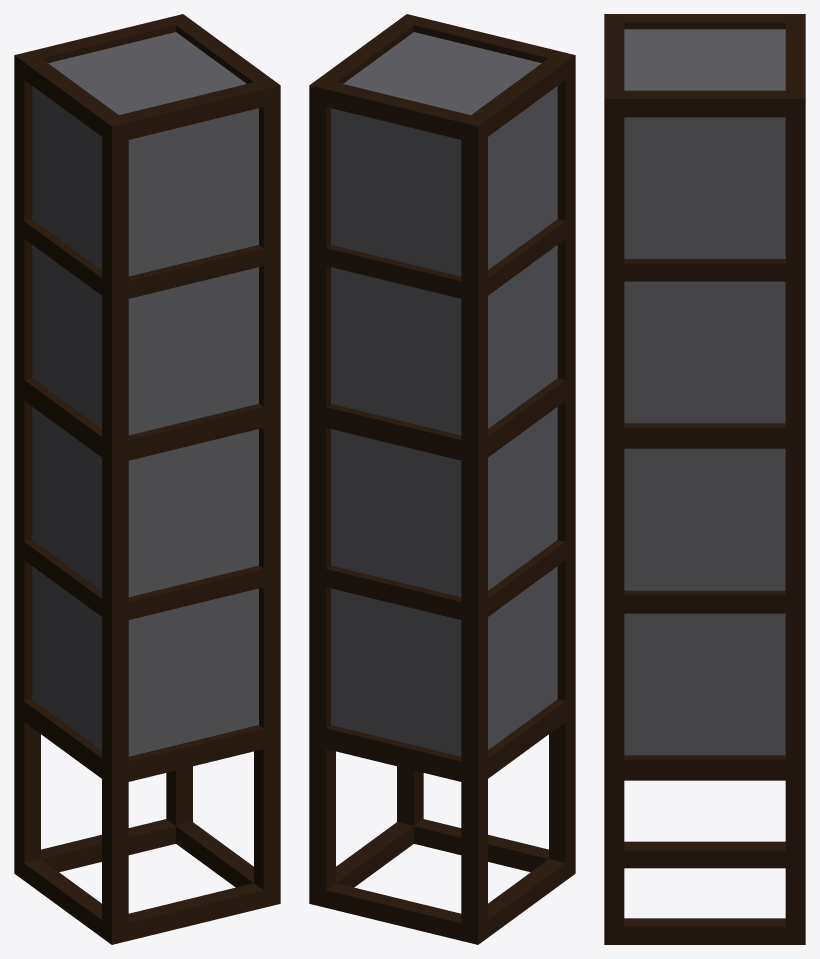
The model's file is pillar2.glb.
3 views of the same model, side by side, from view 1: azimuth 30°, elevation 25°; view 2: azimuth 150°, elevation 25°; view 3: azimuth 270°, elevation 25° (orthographic). The views are drawn at different scales.
Visible parts, largest first — view 1: metalBox.003; view 2: metalBox.003; view 3: metalBox.003.
Part boxes in pixels (x1,y1,x2,y2): metalBox.003: [14, 14, 280, 944]; metalBox.003: [309, 14, 575, 944]; metalBox.003: [604, 14, 805, 944].
Bounding box in the file's own units: 2.01 × 9.32 × 2.01.
